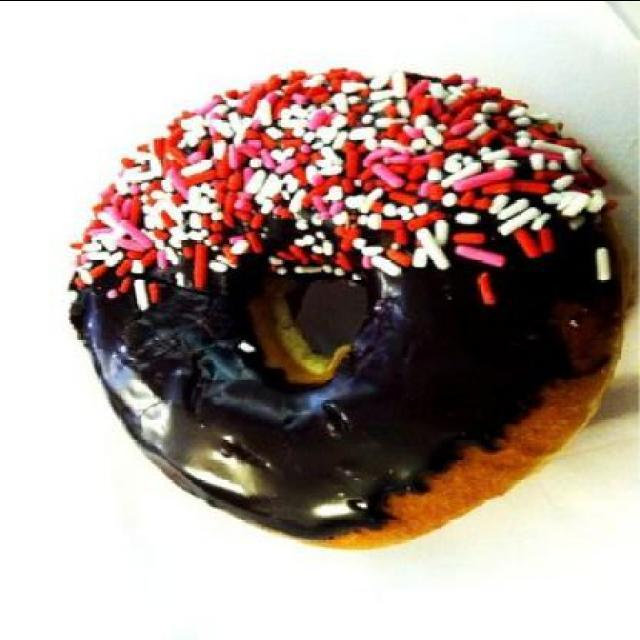Donuts: (55, 17, 607, 555)
